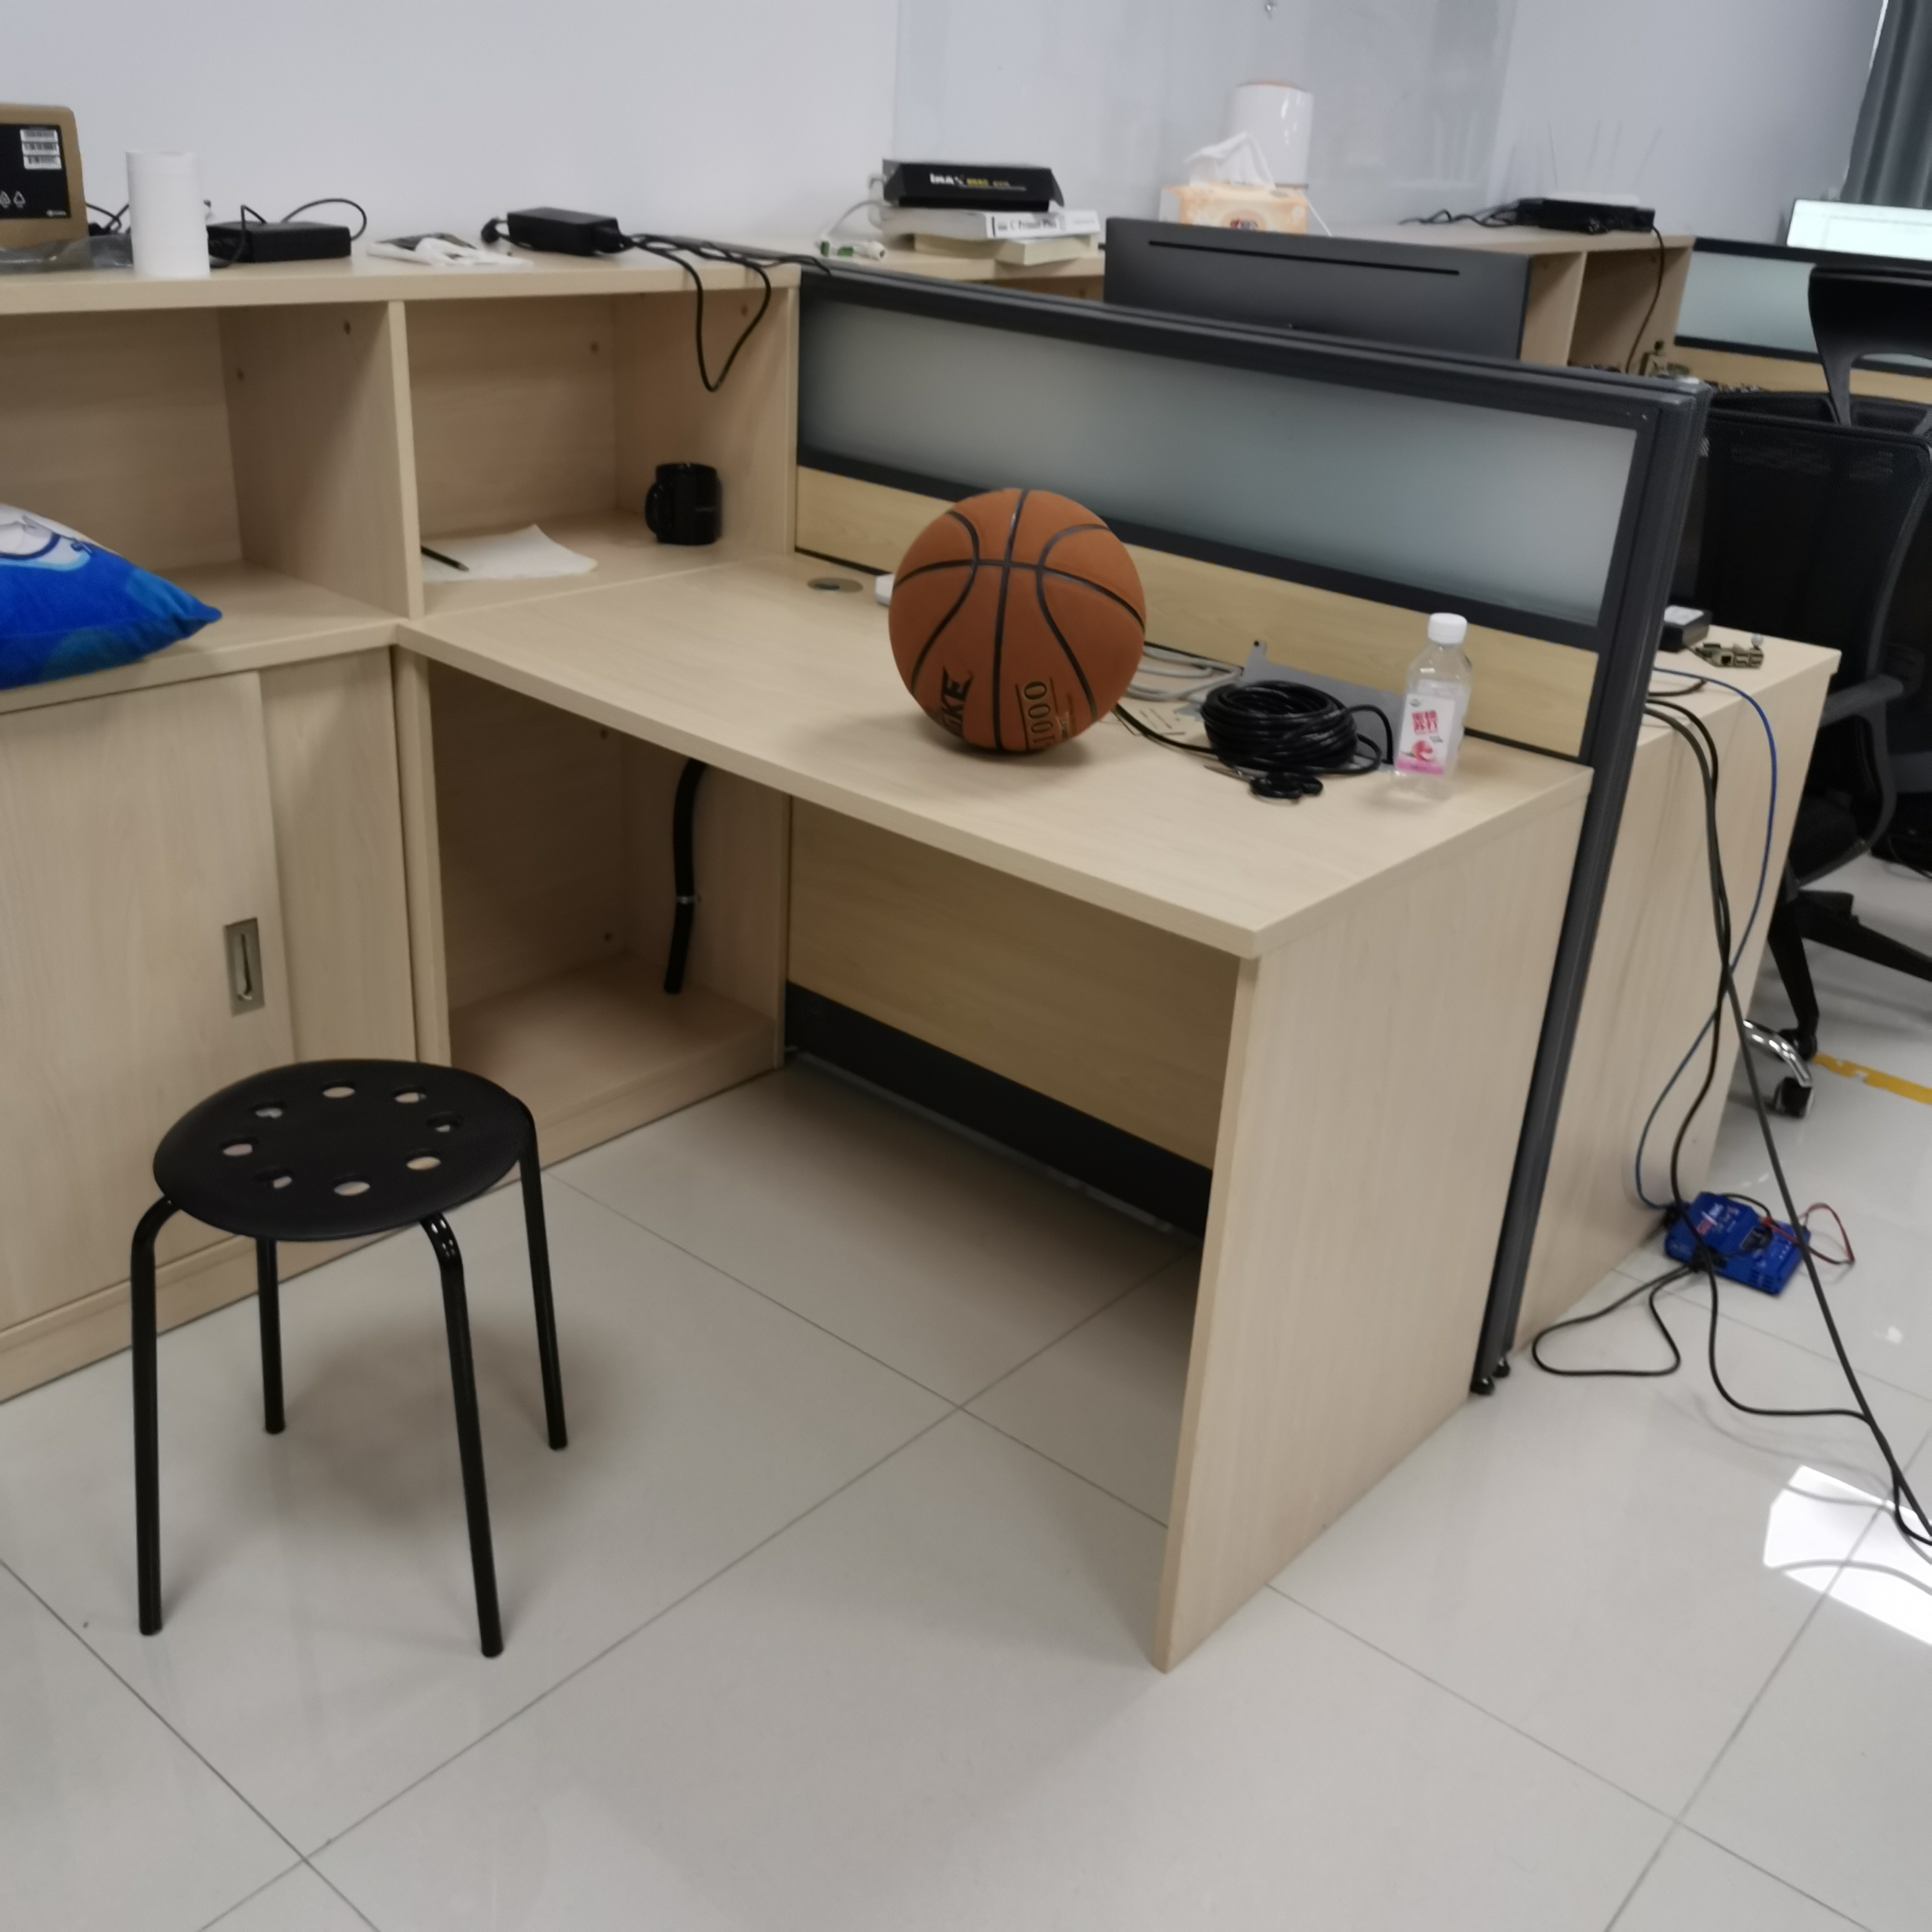basketball: (890, 487, 1148, 755)
